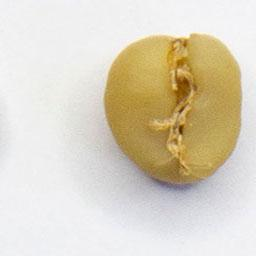defect: (101, 29, 245, 188)
